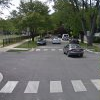crosswalk: (0, 78, 99, 94), (33, 47, 62, 51)
